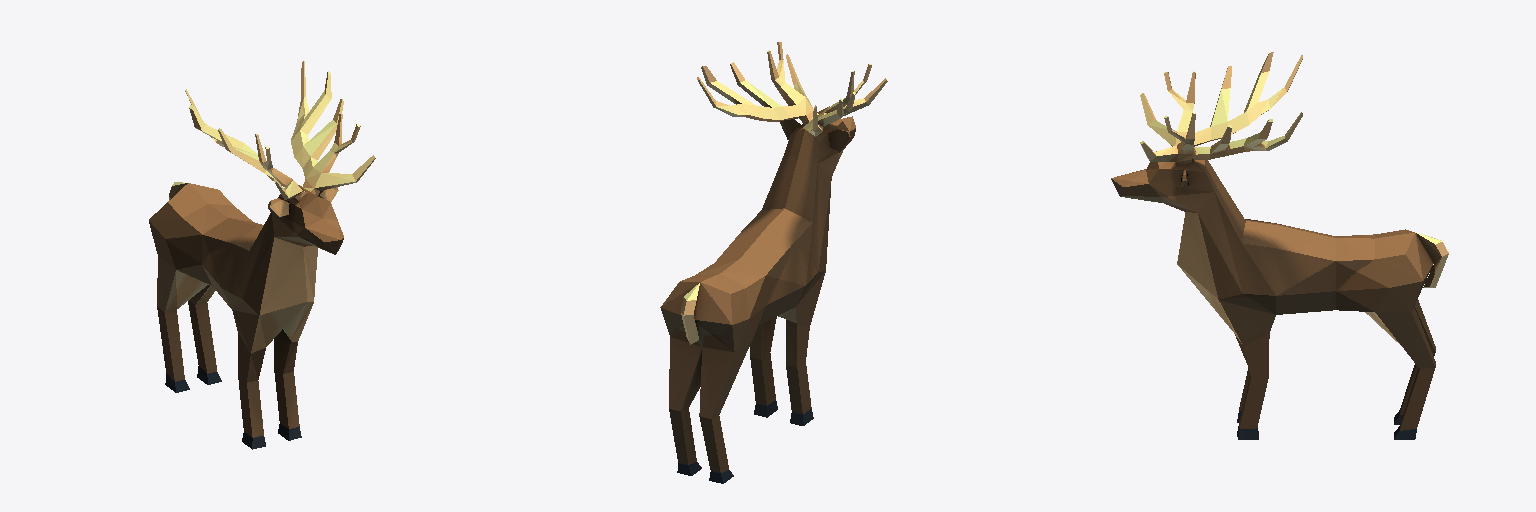
3 views of the same model, side by side, from view 1: azimuth 30°, elevation 25°; view 2: azimuth 150°, elevation 25°; view 3: azimuth 270°, elevation 25° (orthographic).
Visible parts, largest first — view 1: deer; view 2: deer; view 3: deer.
Part boxes in pixels (x1,y1,x2,y2): deer: (149,61,375,449); deer: (660,42,887,483); deer: (1111,52,1448,439).
Size of the model in its own units: 0.8652 by 2.02 by 1.79.
1 materials, 1 textured.